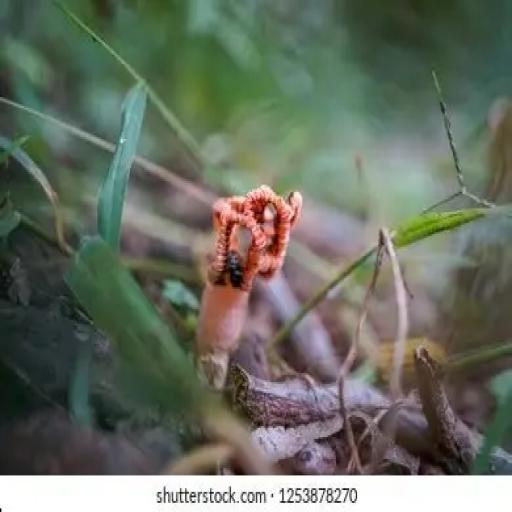Red Cage Fungus: (195, 180, 299, 387)
